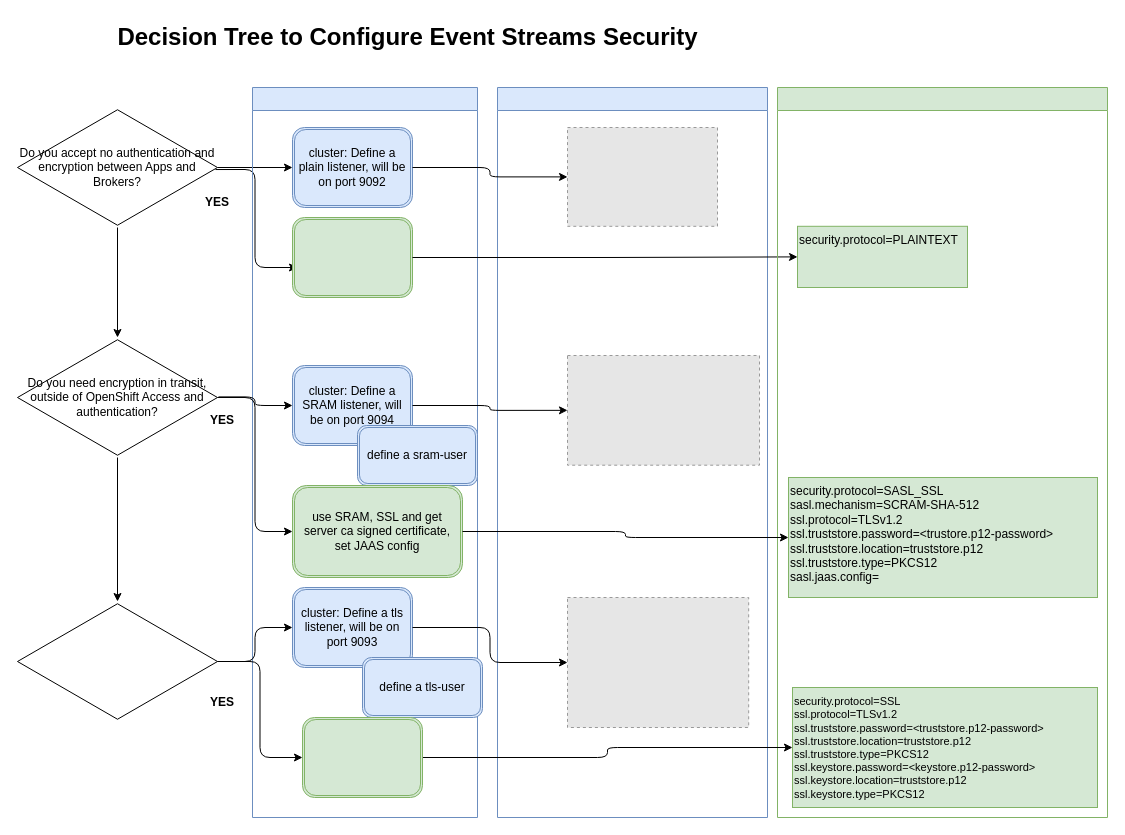
This 1125x835 diagram has some shape labels left out. Grey dashed boxes stand in for pictures. Each missing label, with the box of its shape:
app: use only bootstrap and PLAIN security: (292, 216, 412, 298)
Application Config: (776, 86, 1108, 818)
Configuration approach: (252, 86, 478, 818)
Do you need encryption and mutual TLS authentication?: (16, 600, 218, 722)
Event Streams Configuration example: (496, 86, 768, 818)
use SSL and get server ca signed certificate and client certificate: (302, 716, 422, 798)
